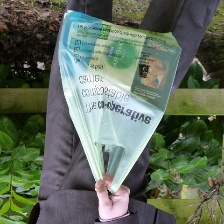plastic_bag: (54, 8, 184, 199)
